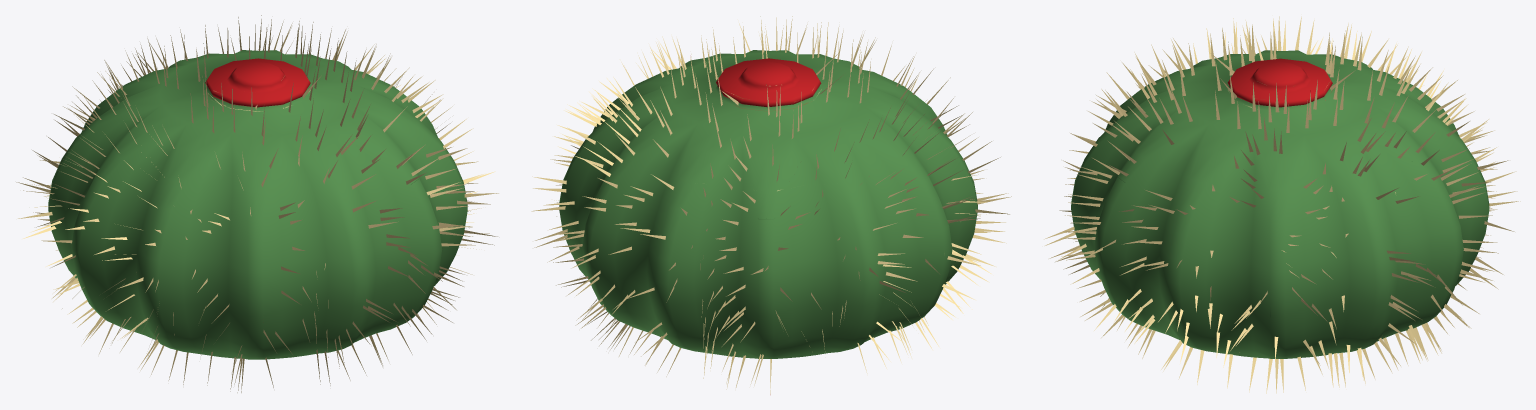
File: BallCactus 1.fbx
3 renders of one model, left to right at view 1: azimuth 30°, elevation 25°; view 2: azimuth 150°, elevation 25°; view 3: azimuth 270°, elevation 25°, orthographic.
Parts seen in each view (by area): view 1: BallCactus; view 2: BallCactus; view 3: BallCactus.
Part boxes in pixels (x1,y1,x2,y2): BallCactus: (16,15,498,392); BallCactus: (531,16,1011,394); BallCactus: (1044,16,1520,393).
Size of the model in its own units: 2.24 by 2.2 by 1.38.
